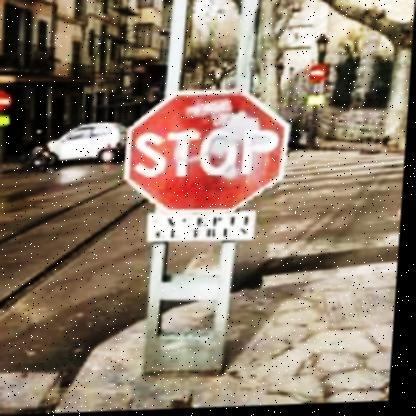Stop Sign: (119, 89, 299, 222)
